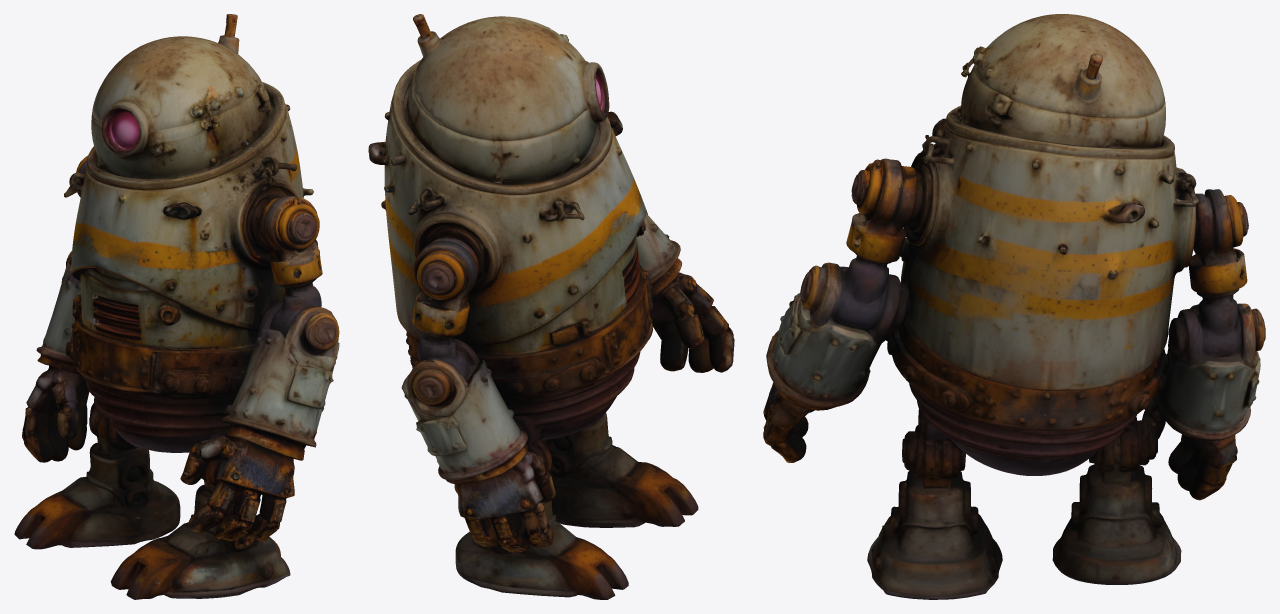
File: pixellabs-robot-v2.glb
3 views of the same model, side by side, from view 1: azimuth 30°, elevation 25°; view 2: azimuth 150°, elevation 25°; view 3: azimuth 270°, elevation 25° (orthographic). The views are drawn at different scales.
Parts seen in each view (by area): view 1: material; view 2: material; view 3: material.
Boxes of the visible parts, x1,y1,x2,y2 form: material: (14, 14, 339, 599); material: (368, 14, 734, 599); material: (763, 14, 1265, 599).
Size of the model in its own units: 0.1309 by 0.2491 by 0.2023.
Materials: 1 (1 with a texture image).
